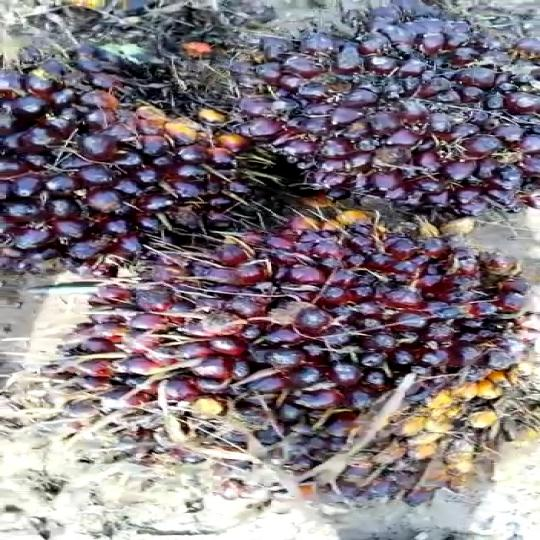kurang masak: (52, 226, 528, 503), (209, 14, 540, 223), (0, 32, 272, 258)
